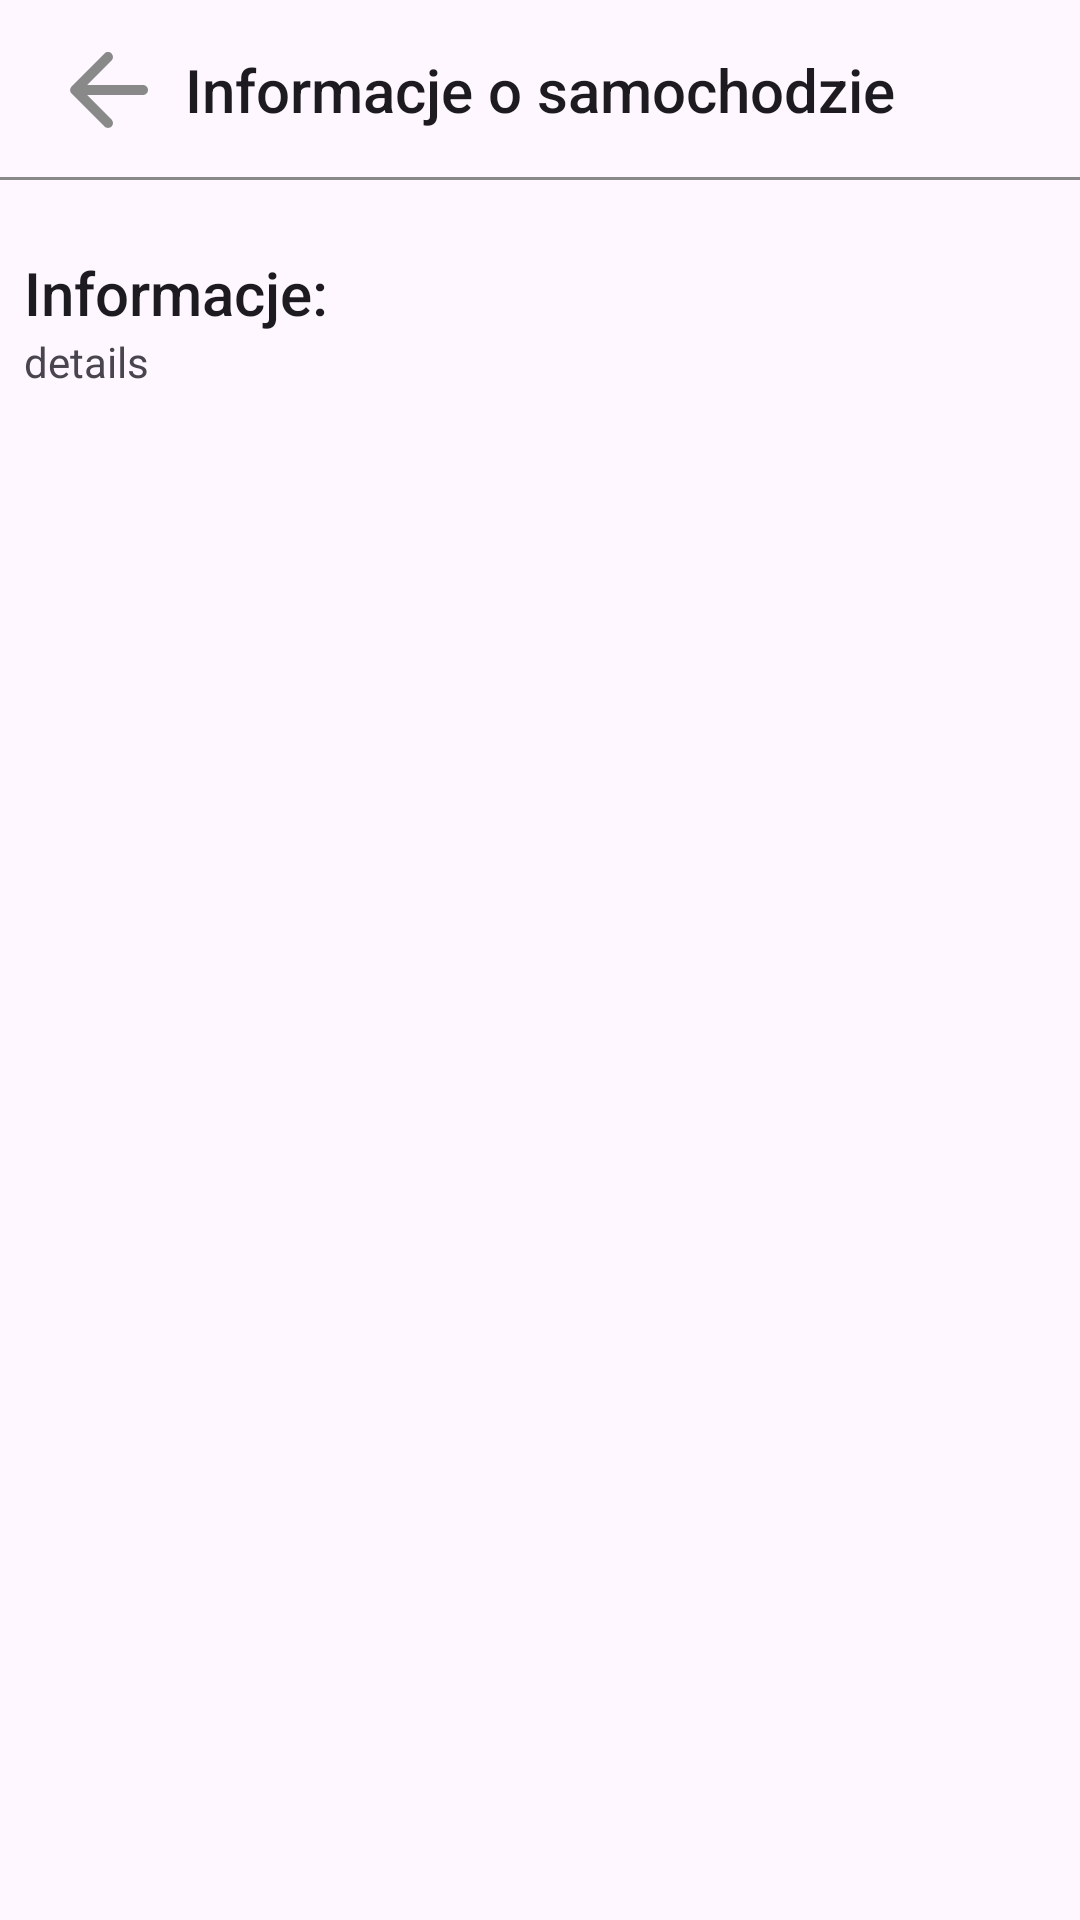

Named icons in this screenshot (1080×1920) and their centers, (x,y):
back: (109,90)
